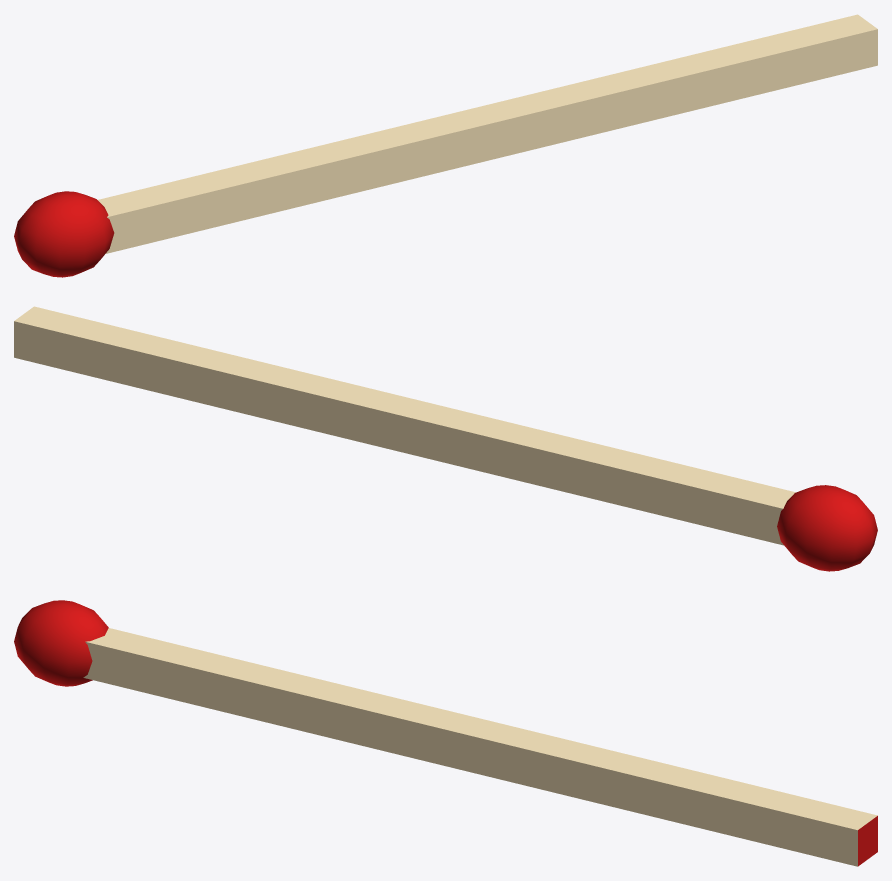
The model's file is MatchStick.glb.
3 renders of one model, top to bottom at view 1: azimuth 30°, elevation 25°; view 2: azimuth 150°, elevation 25°; view 3: azimuth 330°, elevation 25°, orthographic.
Parts seen in each view (by area): view 1: MatchStick; view 2: MatchStick; view 3: MatchStick.
Boxes of the visible parts, x1=… form: MatchStick: x1=14, y1=14, x2=877, y2=277; MatchStick: x1=14, y1=306, x2=877, y2=571; MatchStick: x1=14, y1=600, x2=877, y2=866.
Bounding box in the file's own units: 0.0548 × 0.00478 × 0.00478.
Materials: 1 (1 with a texture image).
